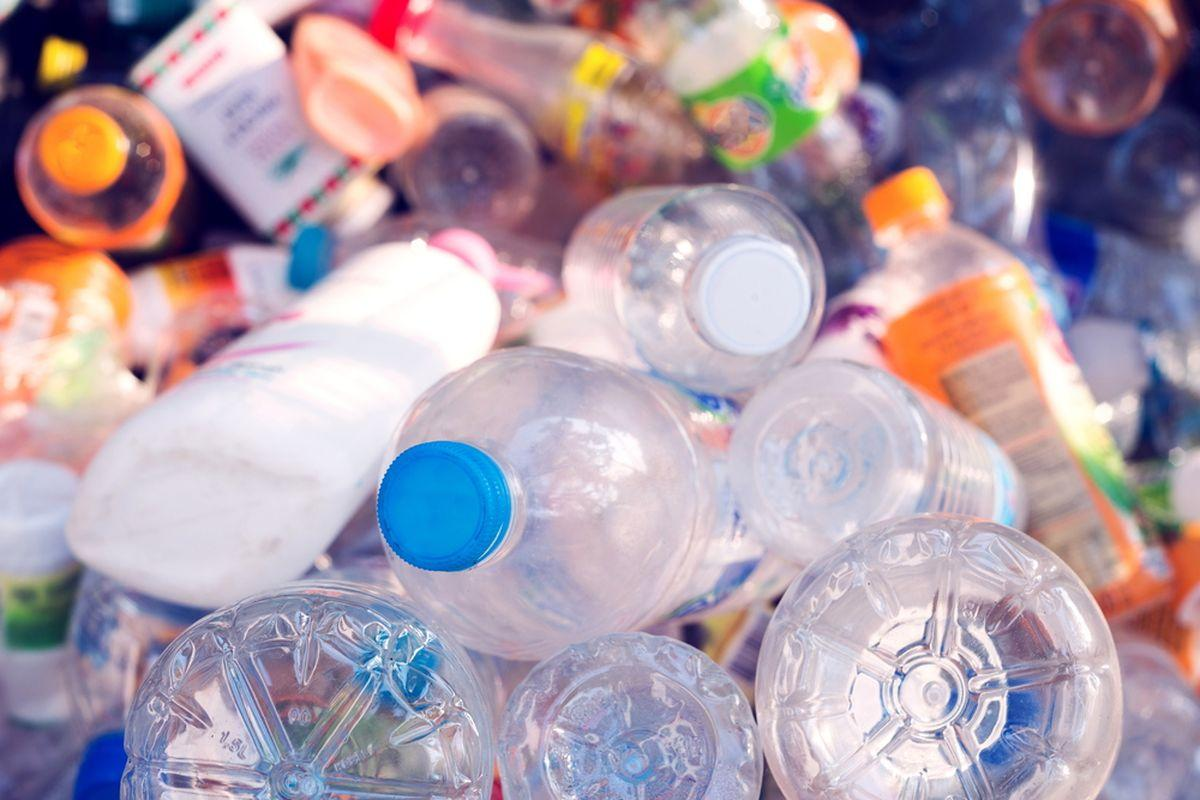HDPE: (56, 224, 506, 611), (285, 4, 433, 168), (375, 439, 514, 572), (681, 230, 813, 361), (34, 102, 137, 195), (857, 161, 954, 247)
PETE: (878, 220, 1182, 623), (751, 510, 1127, 800), (397, 344, 734, 651), (115, 584, 497, 800), (727, 354, 1034, 566), (555, 177, 829, 400), (497, 630, 765, 800)
